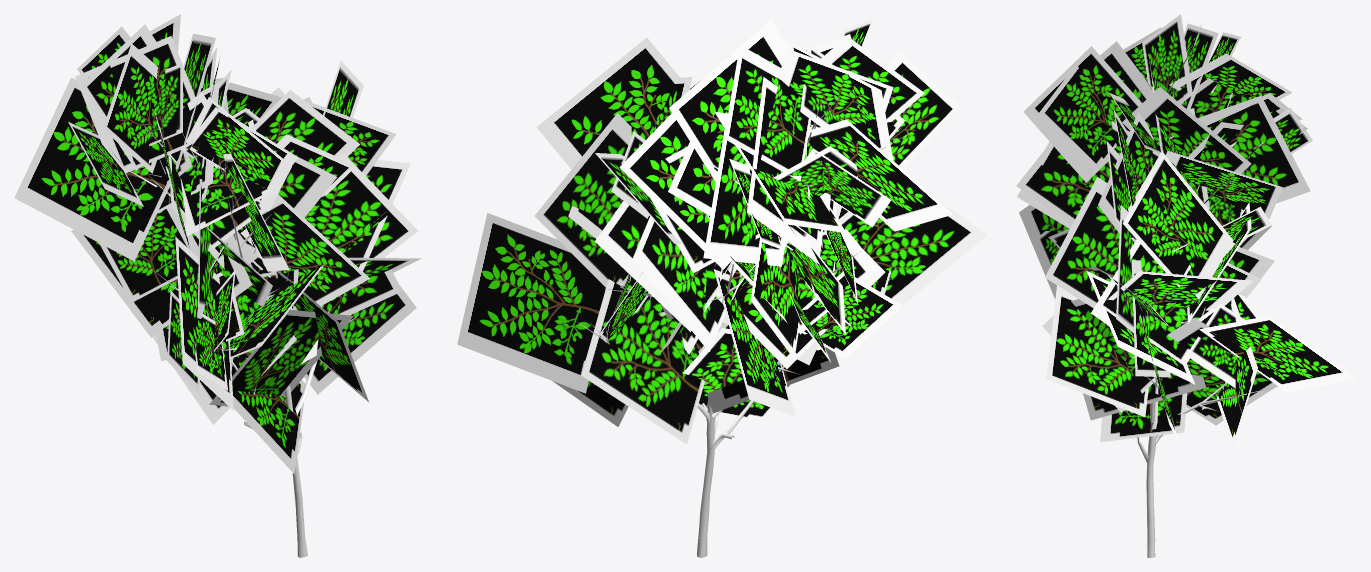
File: tree_a.fbx
3 renders of one model, left to right at view 1: azimuth 30°, elevation 25°; view 2: azimuth 150°, elevation 25°; view 3: azimuth 270°, elevation 25°, orthographic. The views are drawn at different scales.
Parts seen in each view (by area): view 1: tree_a; view 2: tree_a; view 3: tree_a.
Boxes of the visible parts, x1,y1,x2,y2 form: tree_a: [14, 14, 421, 557]; tree_a: [457, 15, 987, 557]; tree_a: [1016, 14, 1356, 557].
Size of the model in its own units: 31.87 by 41.27 by 26.76.
Materials: 2 (1 with a texture image).
